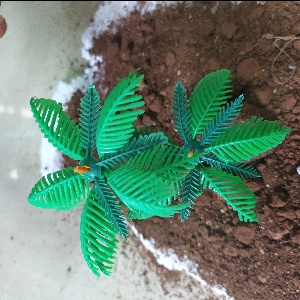plant: (30, 76, 280, 268)
